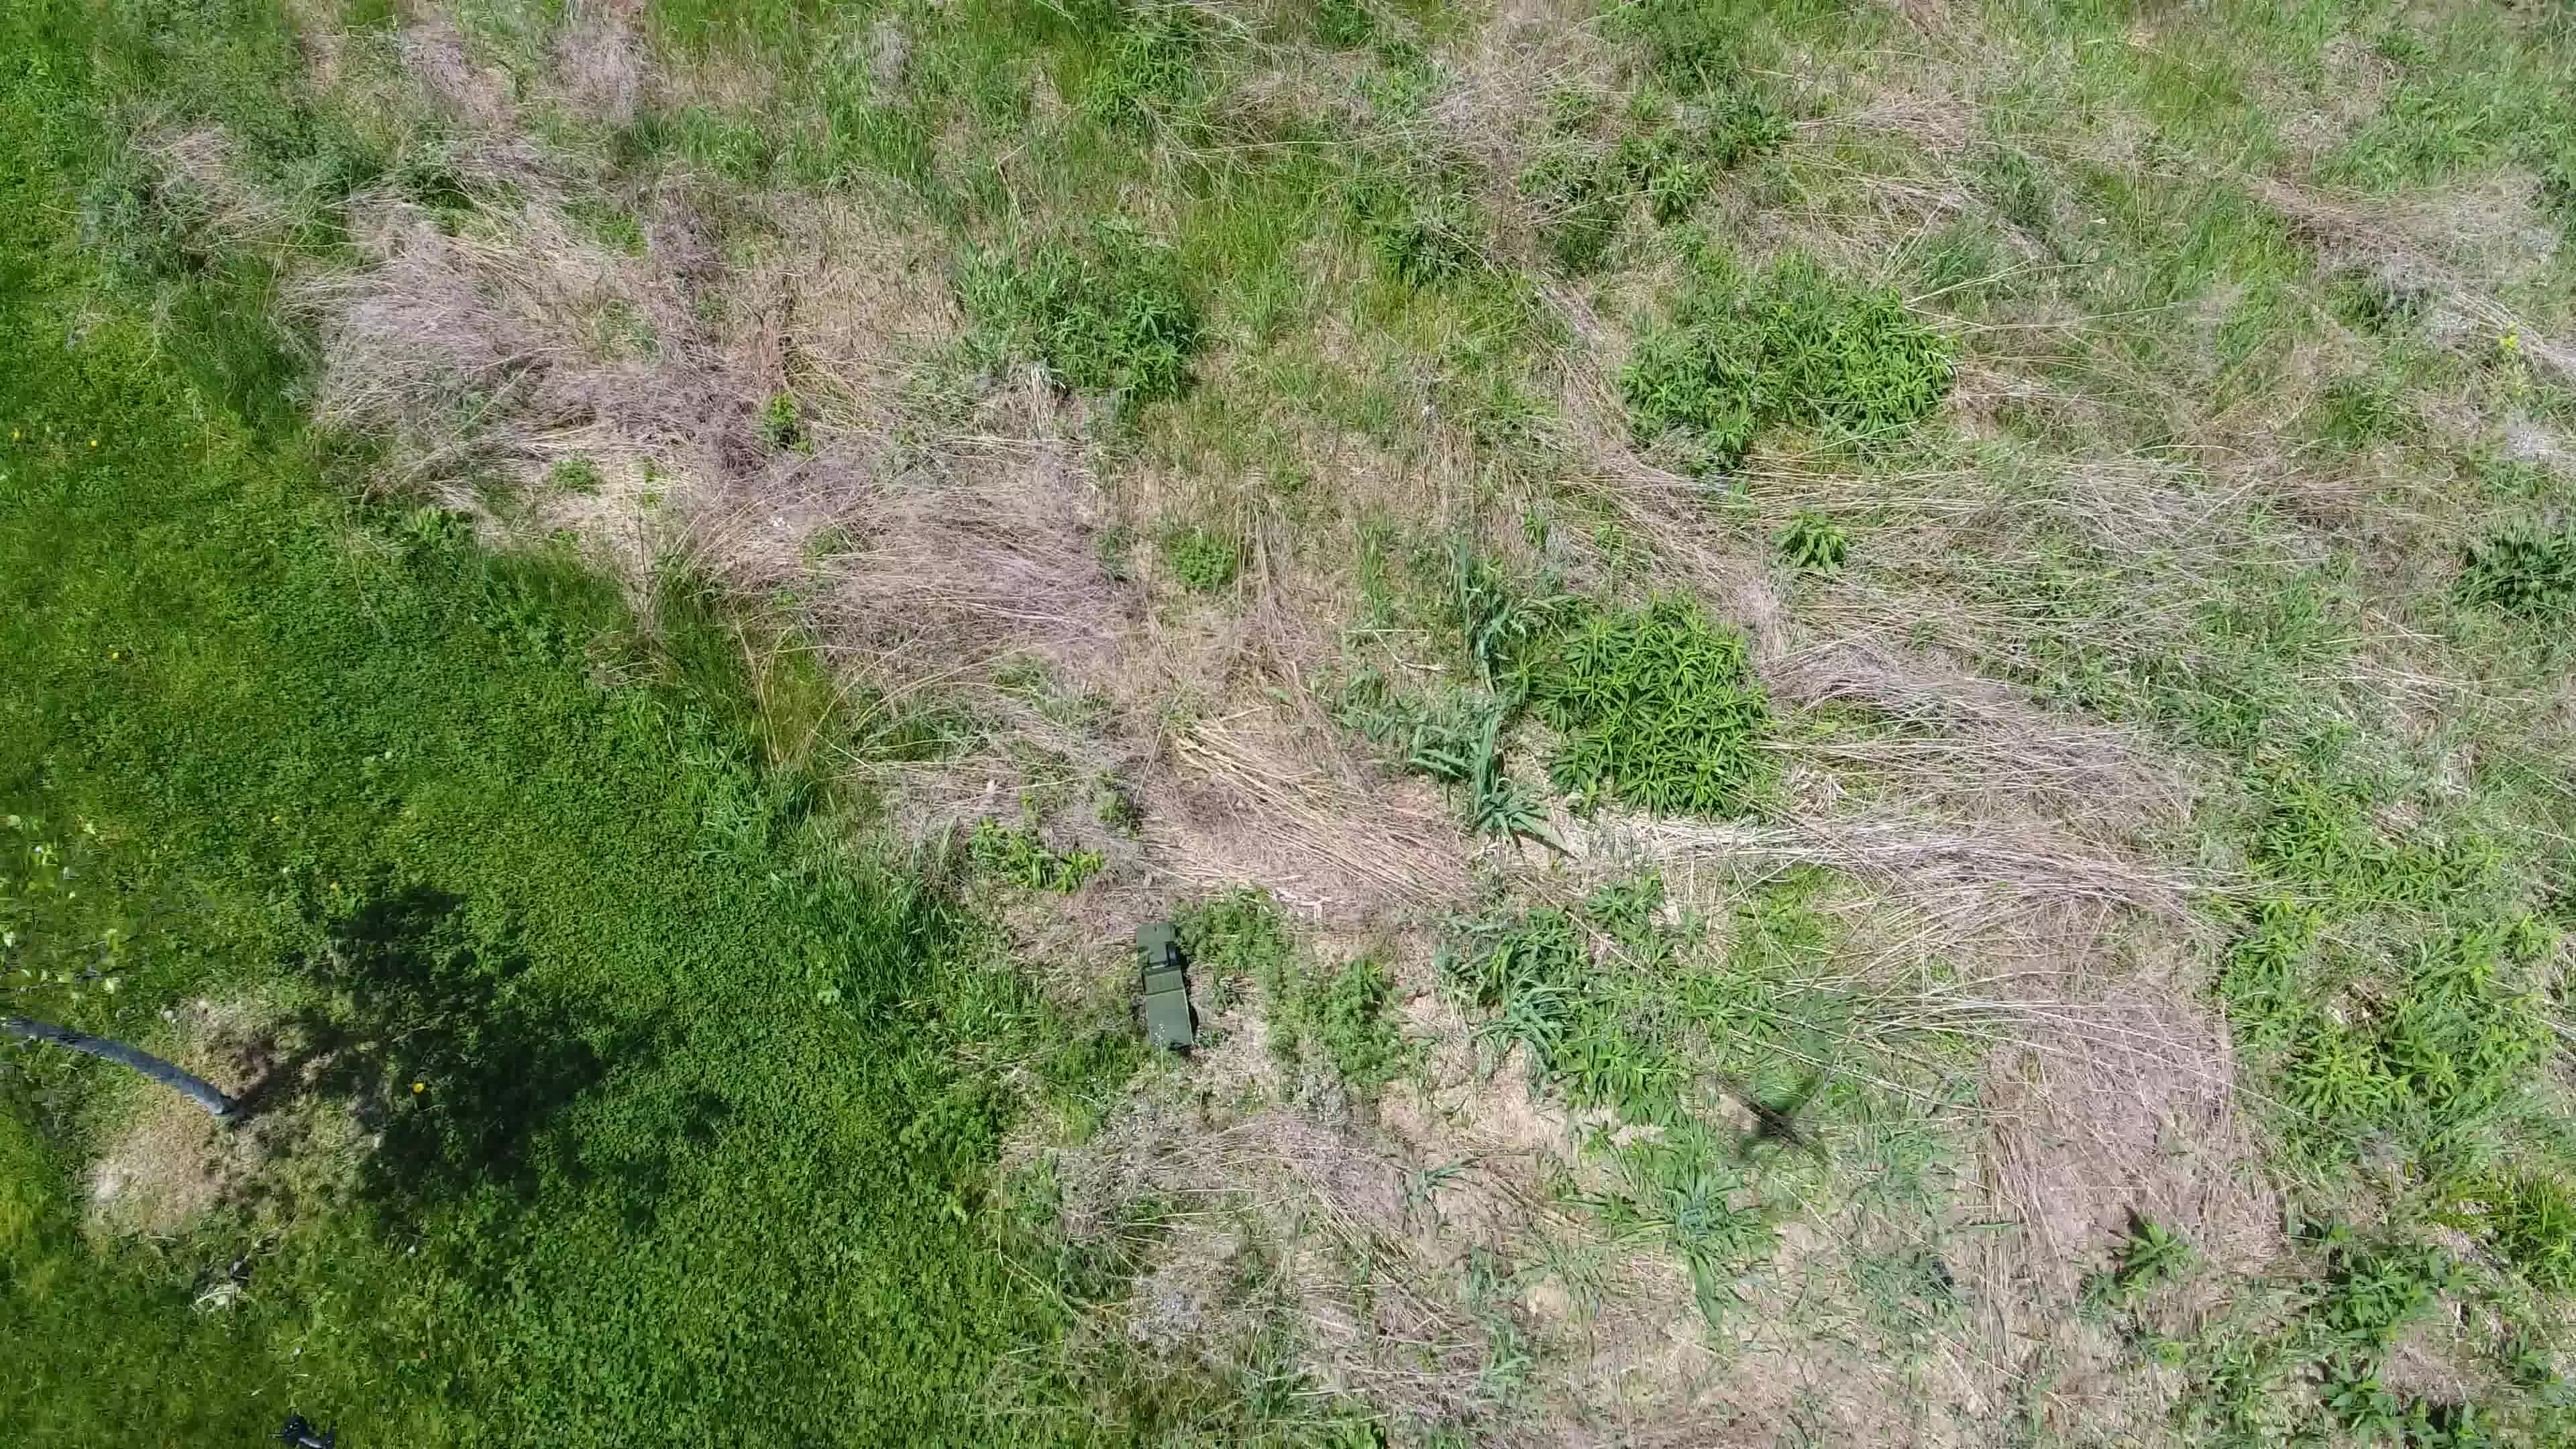transporter9: (1129, 916, 1201, 1056)
